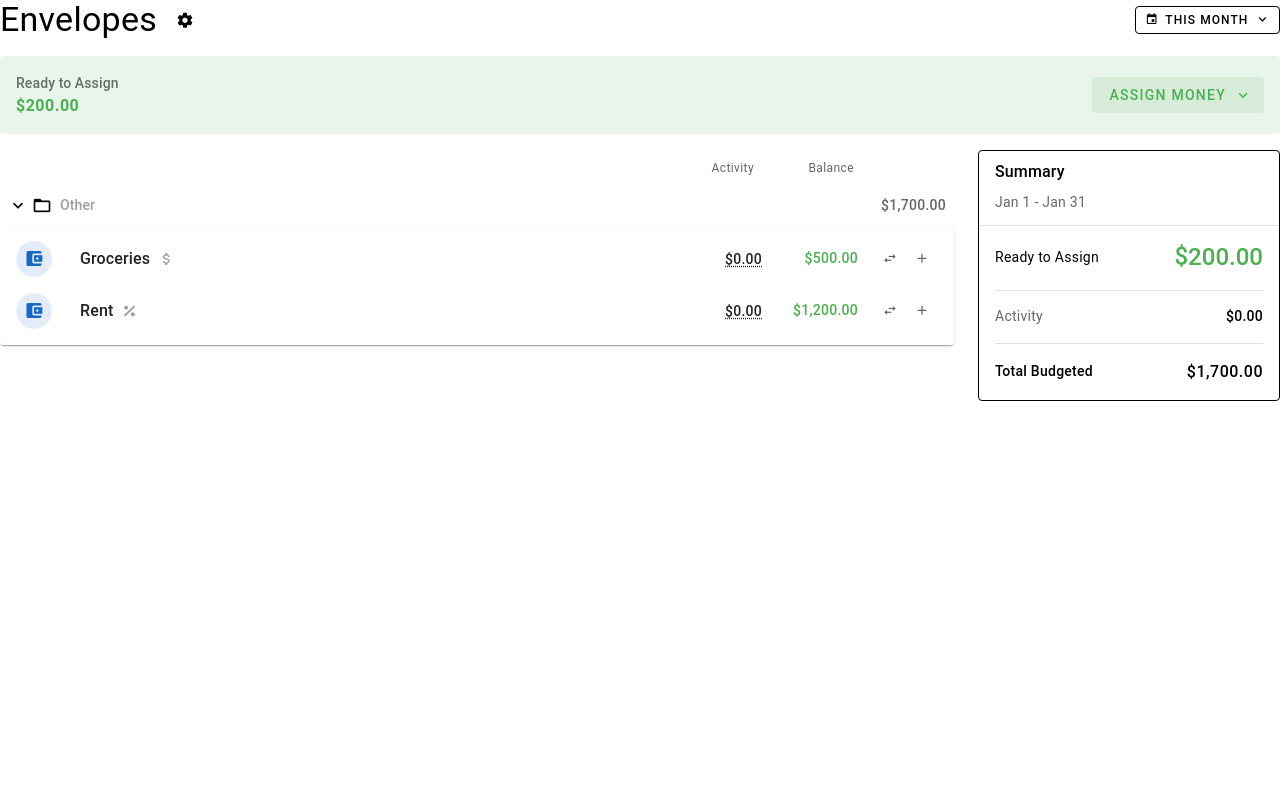
Test: EnvelopesView › can open create group dialog
// Open settings menu
Click the button without text next to "Envelopes": [185, 20] box [165,0,205,40]
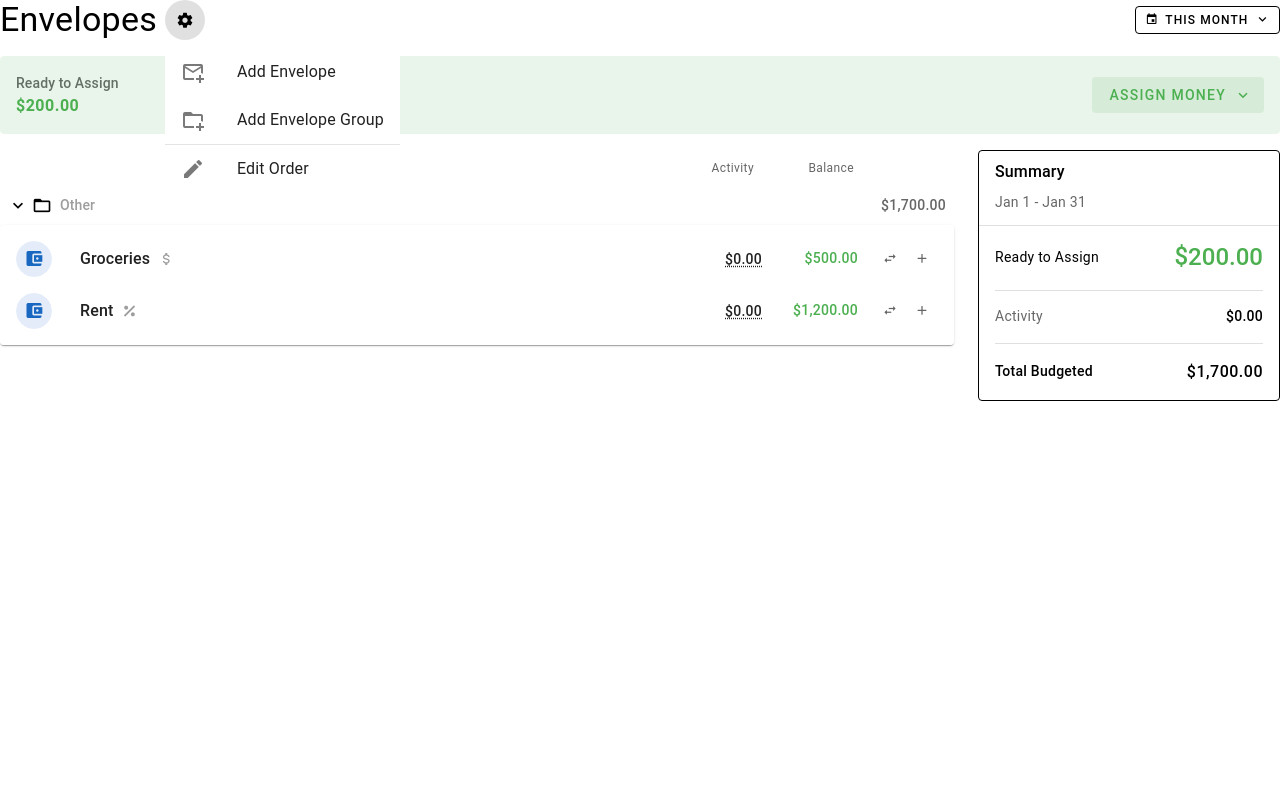
Now the list item "Add Envelope Group" is shown
Click the list item "Add Envelope Group": [282, 120] box [181,108,384,132]
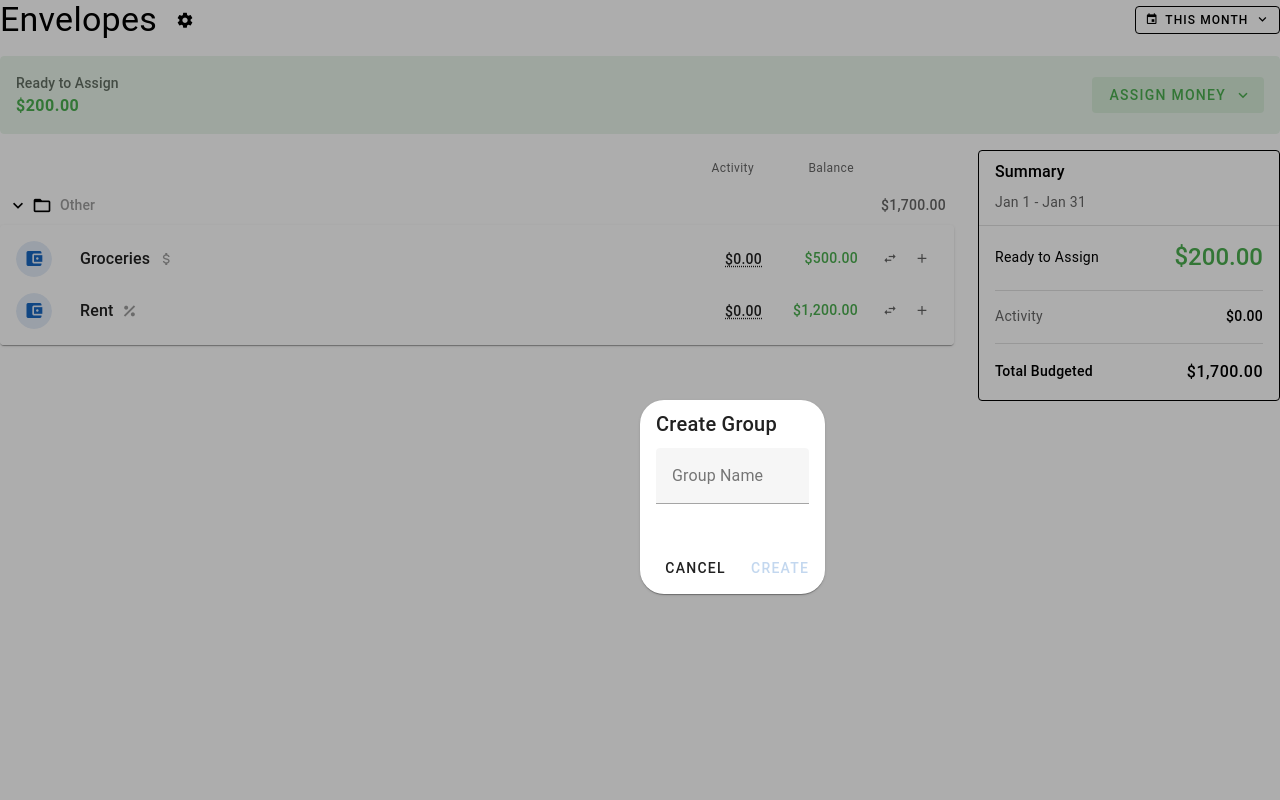
Now the text "Create Group" is shown, box [656,412,777,436]
Now the text "Group Name" is shown, box [672,464,763,488]
